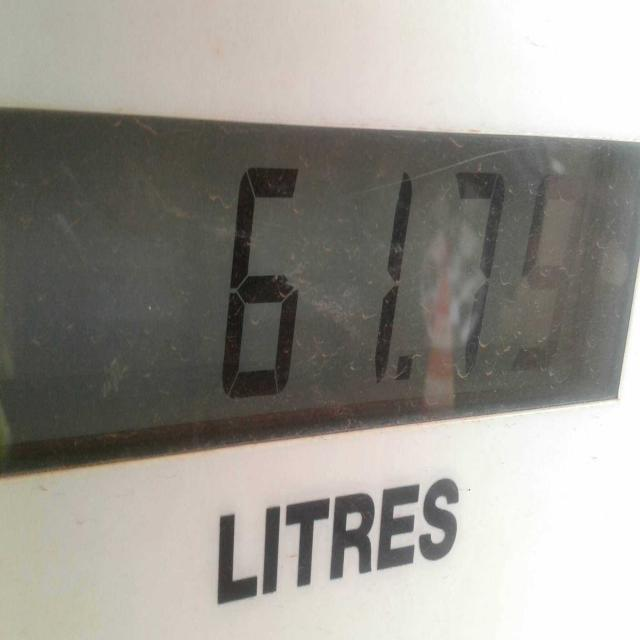.: (397, 339, 432, 409)
1: (375, 167, 422, 378)
6: (205, 159, 306, 411)
7: (448, 163, 502, 393)
9: (521, 148, 598, 393)
